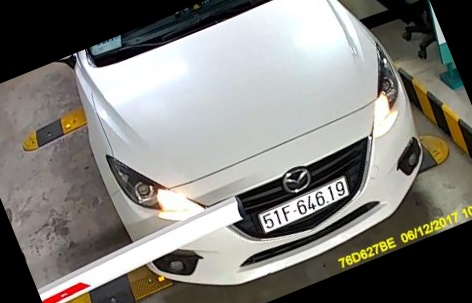plate: (255, 175, 356, 230)
